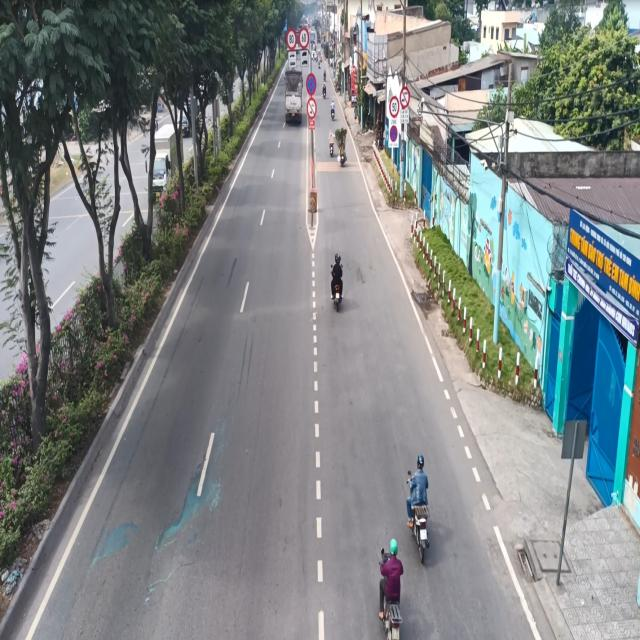motor: (368, 536, 408, 640), (403, 454, 433, 560), (330, 245, 348, 315)
